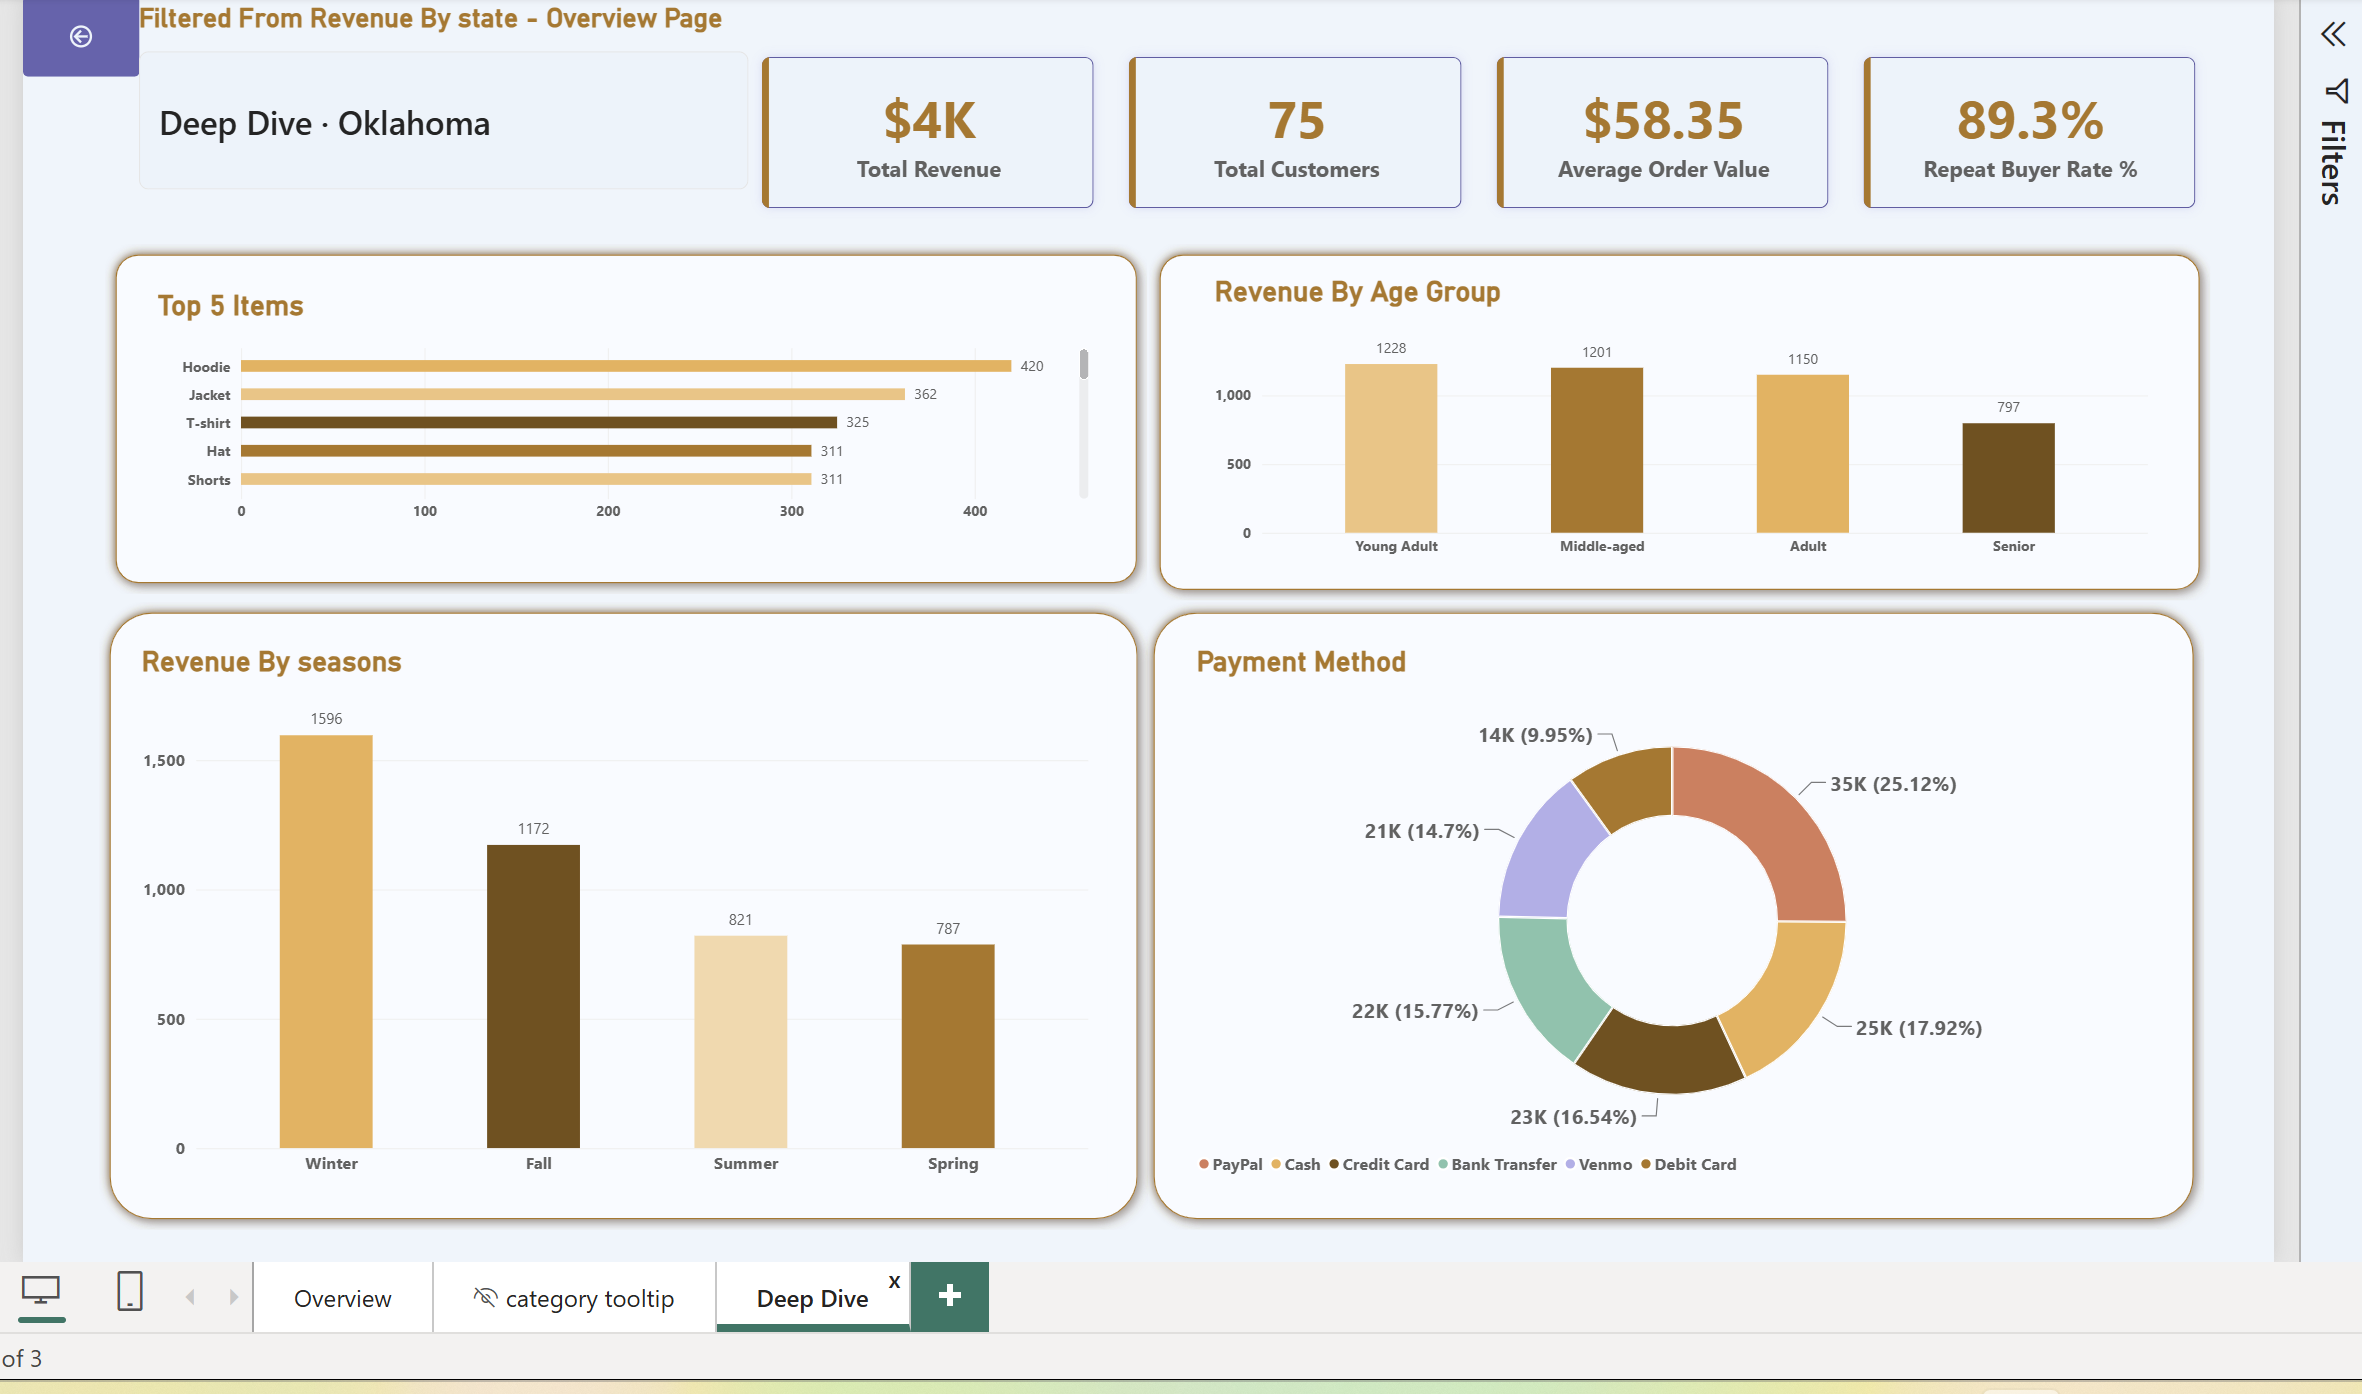

The dashboard page shown, as its layout file describes it:
{"tool":"powerbi","page":{"name":"Deep Dive","canvas":[1920,1080],"ordinal":2},"visuals":[{"type":"actionButton","box":[0,0,99.4,68.8],"z":0},{"type":"cardVisual","title":"Filtered From Revenue By state - Overview Page","fields":{"Data":["public customer.DeepDive title"]},"box":[99.4,5.7,520.2,160.6],"z":1},{"type":"cardVisual","fields":{"Data":["public customer.Total Revenue","public customer.Total Customers","public customer.Average Order Value","public customer.Repeat Buyer Rate %"]},"box":[619.6,40.2,1244.9,151.1],"z":2},{"type":"shape","box":[960,212.3,904.5,304.1],"z":3},{"type":"shape","box":[956.2,516.3,904.5,535.5],"z":4},{"type":"donutChart","title":"Payment Method","fields":{"Category":["public customer.payment_method"],"Y":["Sum(public customer.customer_id)"]},"box":[984.9,539.3,843.3,487.6],"z":5},{"type":"columnChart","title":"Revenue By Age Group","fields":{"Category":["public customer.age_group"],"Y":["Sum(public customer.purchase_amount)"]},"box":[1000.2,223.7,828,275.4],"z":6},{"type":"shape","box":[70.8,212.3,889.2,298.3],"z":7},{"type":"shape","box":[65,516.3,895,535.5],"z":8},{"type":"barChart","title":"Top 5 Items","fields":{"Category":["public customer.item_purchased"],"Y":["Sum(public customer.purchase_amount)"]},"box":[99.4,235.2,826.1,233.3],"z":9},{"type":"columnChart","title":"Revenue By seasons","fields":{"Category":["public customer.season"],"Y":["Sum(public customer.purchase_amount)"]},"box":[86.1,539.3,839.5,487.6],"z":10}]}

Visuals, with their boxes on the page's 1920x1080 design canvas (x1, y1, x2, y2). These are canvas units, not pixel positions in the 2362x1394 screenshot, which may show the page scaled, cropped or inside an application window:
actionButton: x1=0 y1=0 x2=99 y2=69
"Filtered From Revenue By state - Overview Page" cardVisual: x1=99 y1=6 x2=620 y2=166
cardVisual - public customer.Total Revenue x public customer.Total Customers: x1=620 y1=40 x2=1864 y2=191
shape: x1=960 y1=212 x2=1864 y2=516
shape: x1=956 y1=516 x2=1861 y2=1052
"Payment Method" donutChart: x1=985 y1=539 x2=1828 y2=1027
"Revenue By Age Group" columnChart: x1=1000 y1=224 x2=1828 y2=499
shape: x1=71 y1=212 x2=960 y2=511
shape: x1=65 y1=516 x2=960 y2=1052
"Top 5 Items" barChart: x1=99 y1=235 x2=926 y2=468
"Revenue By seasons" columnChart: x1=86 y1=539 x2=926 y2=1027
